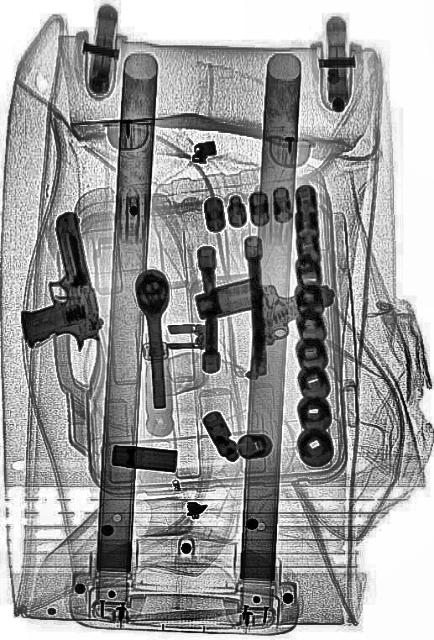Gun: (3, 206, 106, 368), (246, 272, 334, 392)
